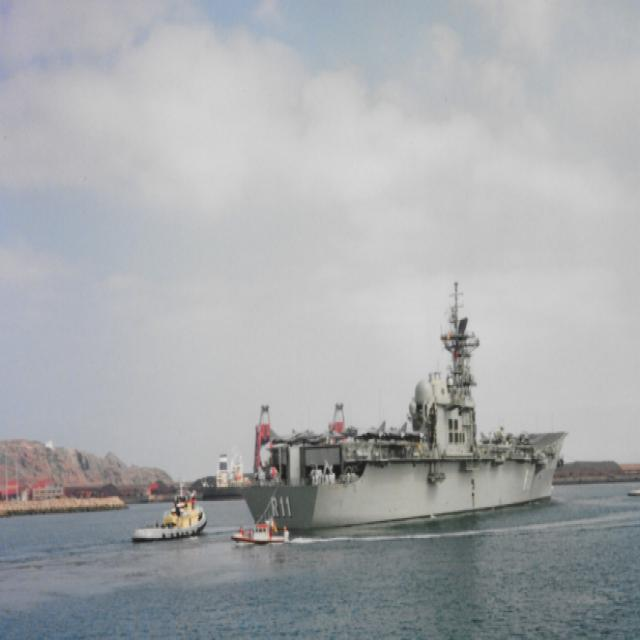Portanaves: (237, 259, 570, 544)
